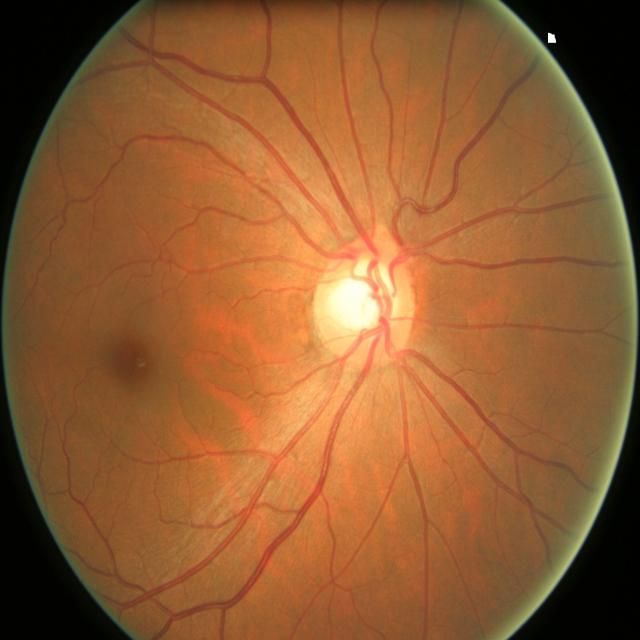OC: (328, 258, 394, 333)
OD: (312, 234, 419, 364)
